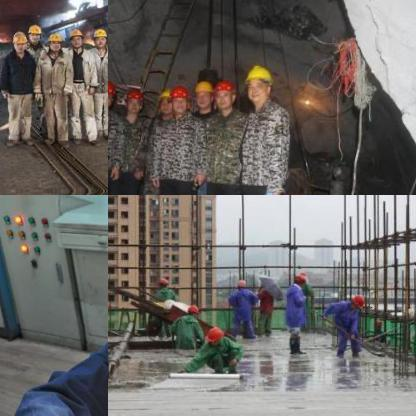Helmet: (241, 60, 273, 104), (190, 74, 214, 108), (120, 86, 144, 115), (201, 323, 227, 347), (214, 78, 234, 108), (166, 82, 186, 112), (158, 86, 172, 116), (66, 26, 84, 48), (346, 288, 364, 310), (43, 31, 62, 51), (91, 26, 107, 46), (12, 29, 26, 51), (184, 302, 200, 320), (26, 22, 40, 42), (108, 78, 116, 109), (290, 272, 304, 286), (155, 274, 169, 286), (233, 278, 246, 288)
